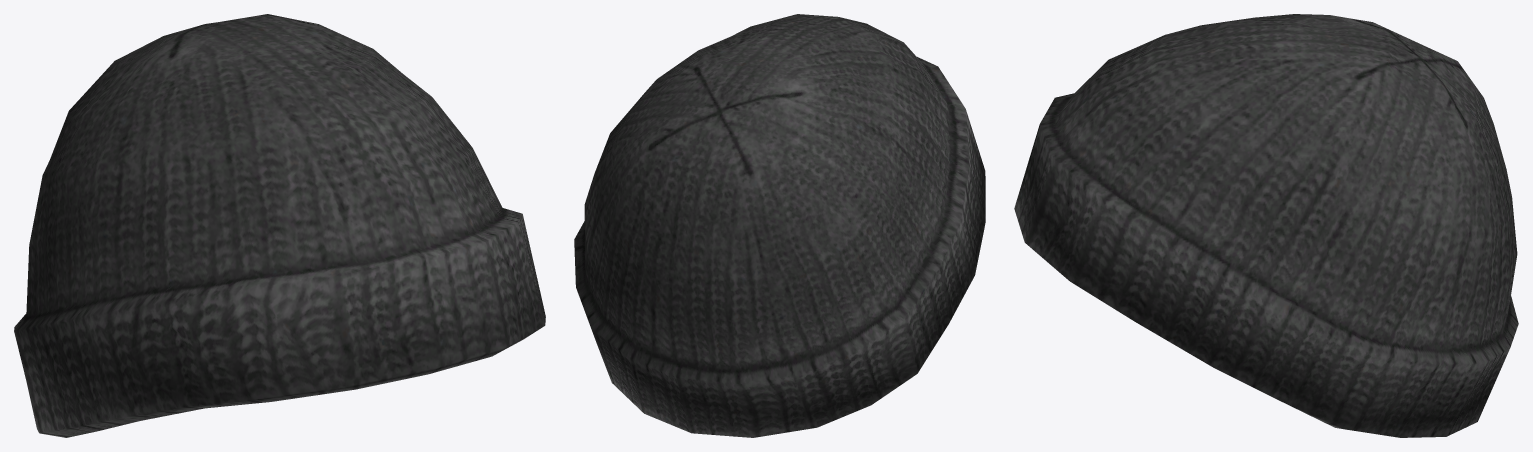
Rendered from SurvivorMale_Head_Hat_Beanie_LOD0.glb.
The picture shows the model from 3 angles, left to right: view 1: azimuth 30°, elevation 25°; view 2: azimuth 150°, elevation 25°; view 3: azimuth 270°, elevation 25°; orthographic projection. The views are drawn at different scales.
Visible parts, largest first — view 1: Hoodie; view 2: Hoodie; view 3: Hoodie.
Part boxes in pixels (x1=…): Hoodie: x1=14, y1=14, x2=545, y2=437; Hoodie: x1=574, y1=14, x2=985, y2=437; Hoodie: x1=1014, y1=14, x2=1518, y2=437.
Size of the model in its own units: 0.2014 by 0.187 by 0.2327.
Materials: 1 (1 with a texture image).
